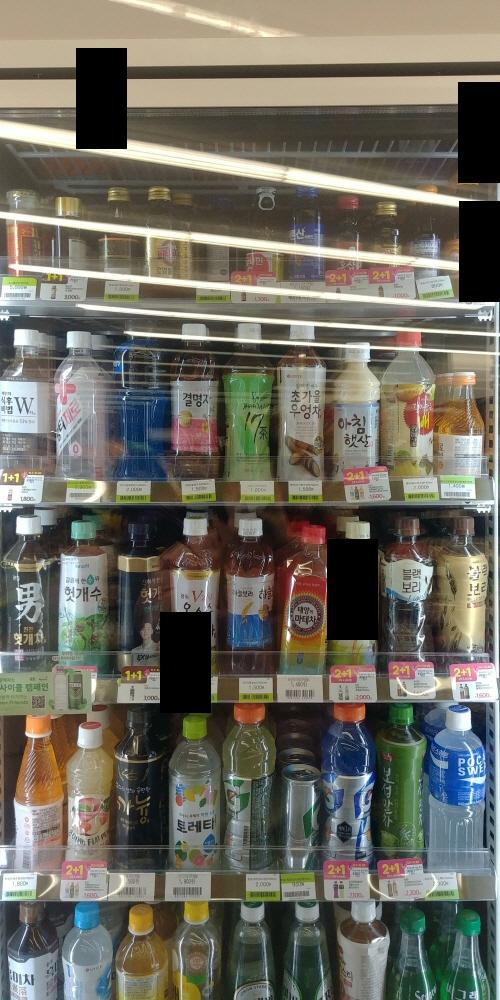oksususuyeomcha: (158, 513, 224, 677)
pocarisweat: (427, 701, 497, 869)
powerade_mountainblast: (111, 325, 165, 483)
